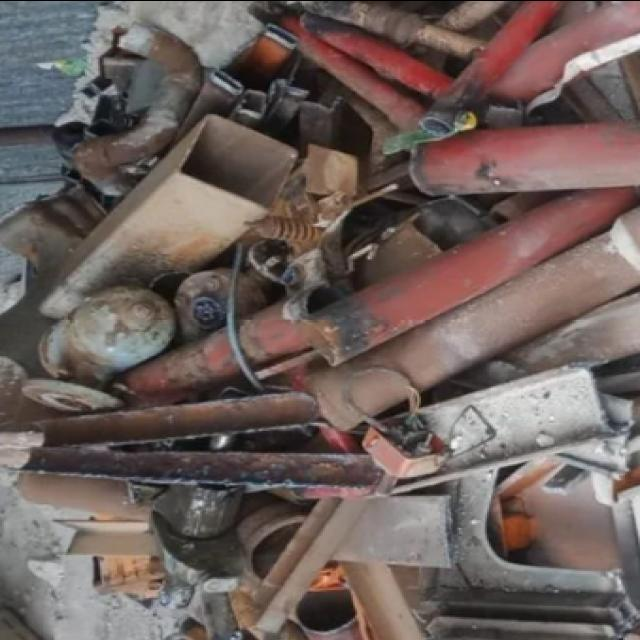shock absorber: (243, 216, 324, 240)
